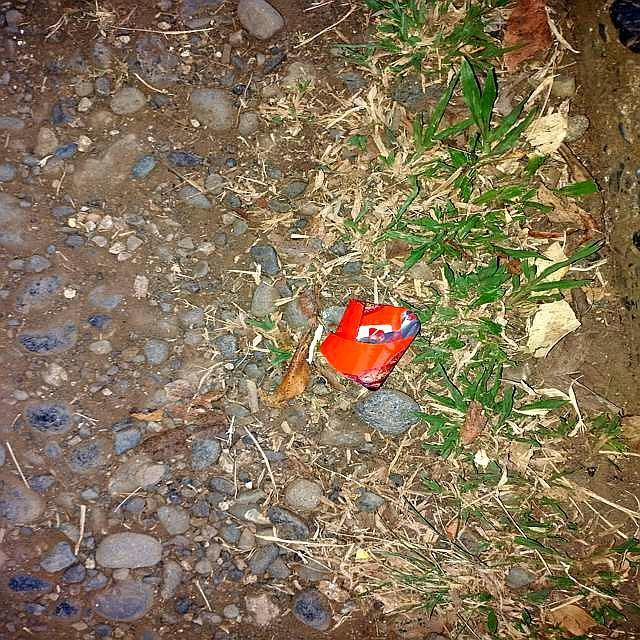Non-biodegradable: (321, 299, 423, 394)
